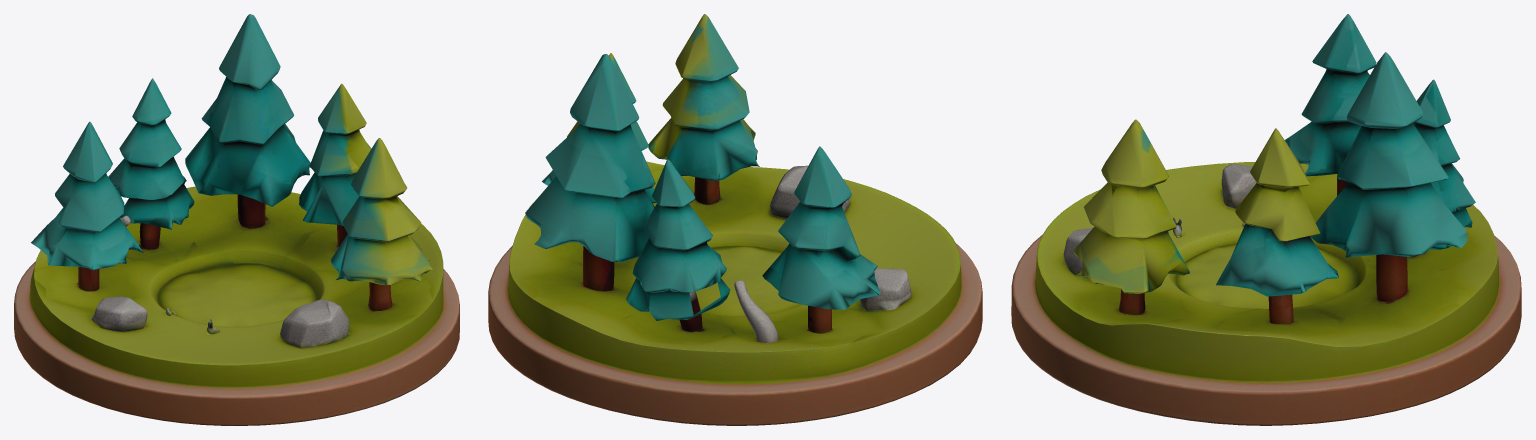
File: forest.glb
3 views of the same model, side by side, from view 1: azimuth 30°, elevation 25°; view 2: azimuth 150°, elevation 25°; view 3: azimuth 270°, elevation 25° (orthographic). The views are drawn at different scales.
Visible parts, largest first — view 1: tripo_8e578566_8a73_4d00_b270_aee23dd92239; view 2: tripo_8e578566_8a73_4d00_b270_aee23dd92239; view 3: tripo_8e578566_8a73_4d00_b270_aee23dd92239.
Part boxes in pixels (x1,y1,x2,y2): tripo_8e578566_8a73_4d00_b270_aee23dd92239: [14, 14, 459, 425]; tripo_8e578566_8a73_4d00_b270_aee23dd92239: [488, 14, 982, 425]; tripo_8e578566_8a73_4d00_b270_aee23dd92239: [1011, 14, 1521, 425].
Bounding box in the file's own units: 0.9995 × 0.6538 × 0.9995.
Materials: 1 (1 with a texture image).
